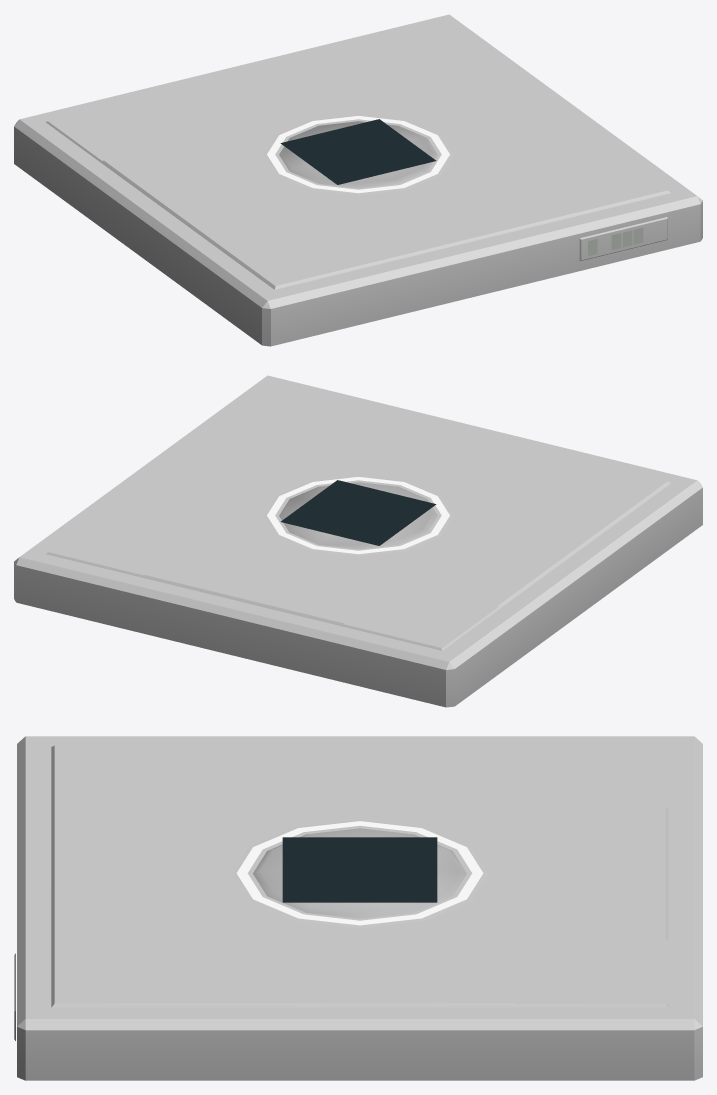
File: prop_proving_step.glb
The picture shows the model from 3 angles, top to bottom: view 1: azimuth 30°, elevation 25°; view 2: azimuth 150°, elevation 25°; view 3: azimuth 270°, elevation 25°; orthographic projection. The views are drawn at different scales.
Visible parts, largest first — view 1: prop_proving_step_mesh, stencils, mark_glow; view 2: prop_proving_step_mesh, stencils, mark_glow; view 3: prop_proving_step_mesh, stencils, mark_glow.
Boxes of the visible parts, x1,y1,x2,y2 form: prop_proving_step_mesh: [14, 14, 702, 346]; stencils: [280, 119, 643, 255]; mark_glow: [267, 116, 449, 193]; prop_proving_step_mesh: [14, 375, 702, 707]; stencils: [280, 480, 436, 545]; mark_glow: [267, 477, 449, 554]; prop_proving_step_mesh: [14, 736, 702, 1080]; stencils: [282, 837, 437, 902]; mark_glow: [236, 821, 483, 925].
Bounding box in the file's own units: 1.6 × 0.1695 × 1.61.
